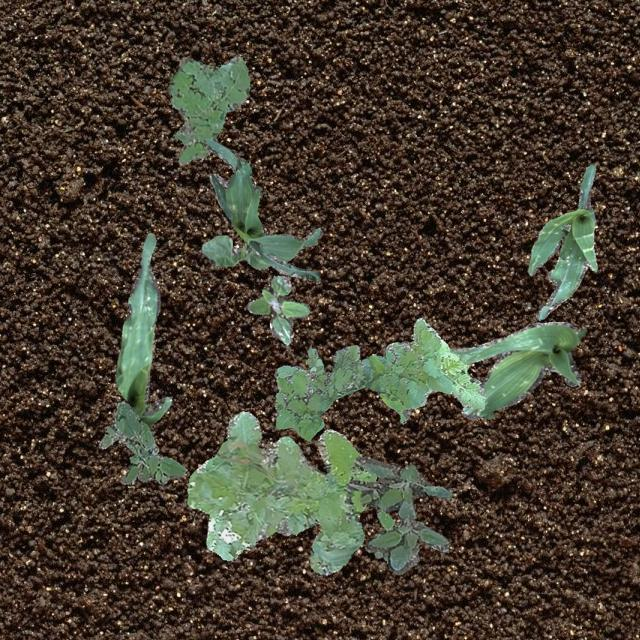crop: (202, 137, 322, 280), (448, 321, 584, 418), (526, 163, 596, 320), (114, 232, 170, 422), (200, 234, 268, 268)
weed: (187, 410, 376, 574), (272, 316, 483, 439), (346, 456, 452, 574), (168, 55, 248, 164), (98, 402, 186, 484), (246, 274, 308, 344), (374, 508, 394, 560)
